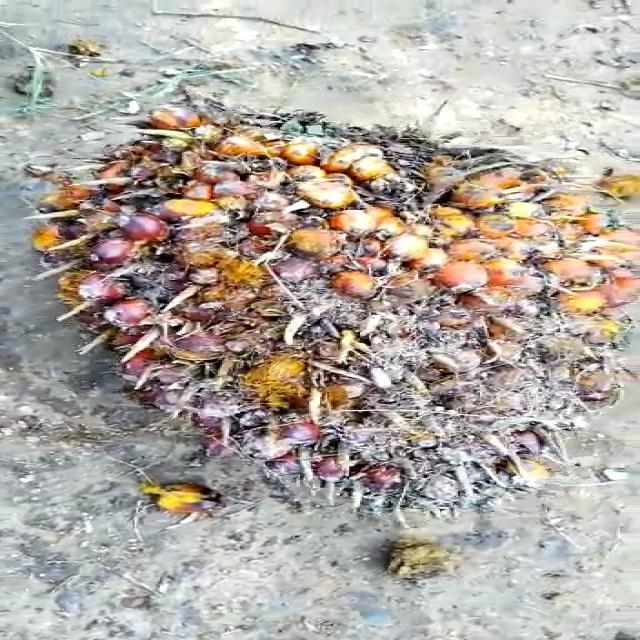palm oil: (77, 94, 640, 507)
